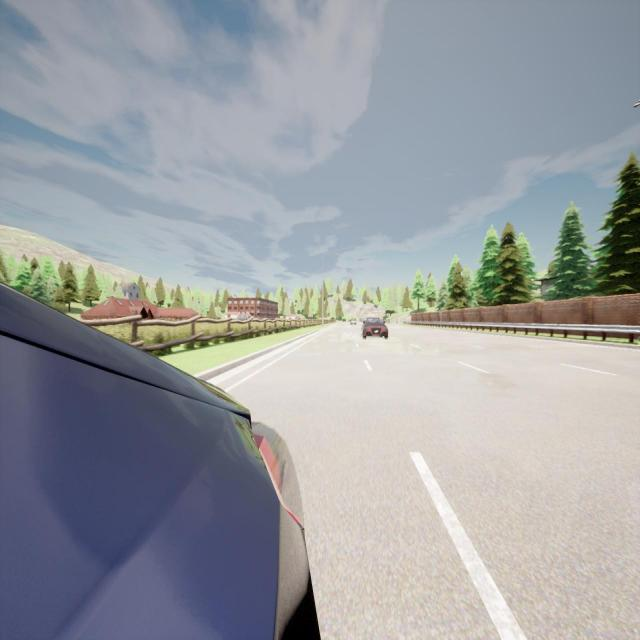Vehicle: (0, 283, 318, 637), (362, 316, 389, 340), (349, 317, 356, 326)
